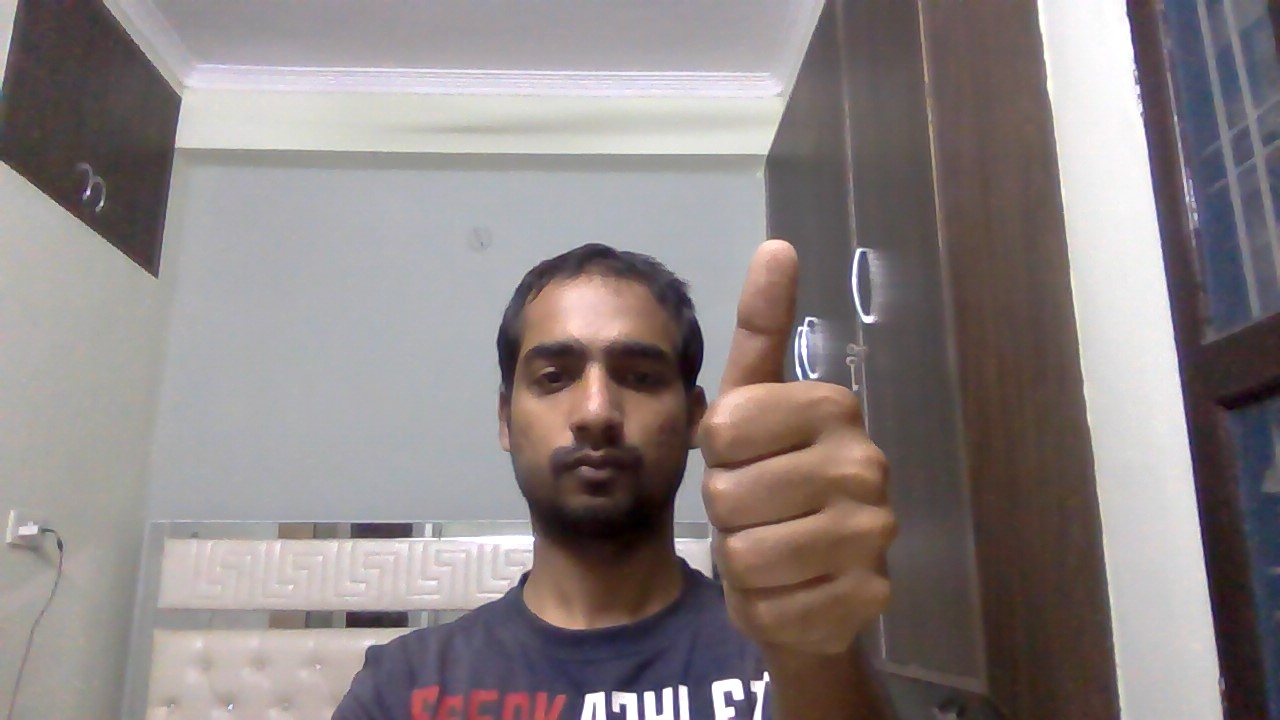Save: (689, 235, 906, 667)
